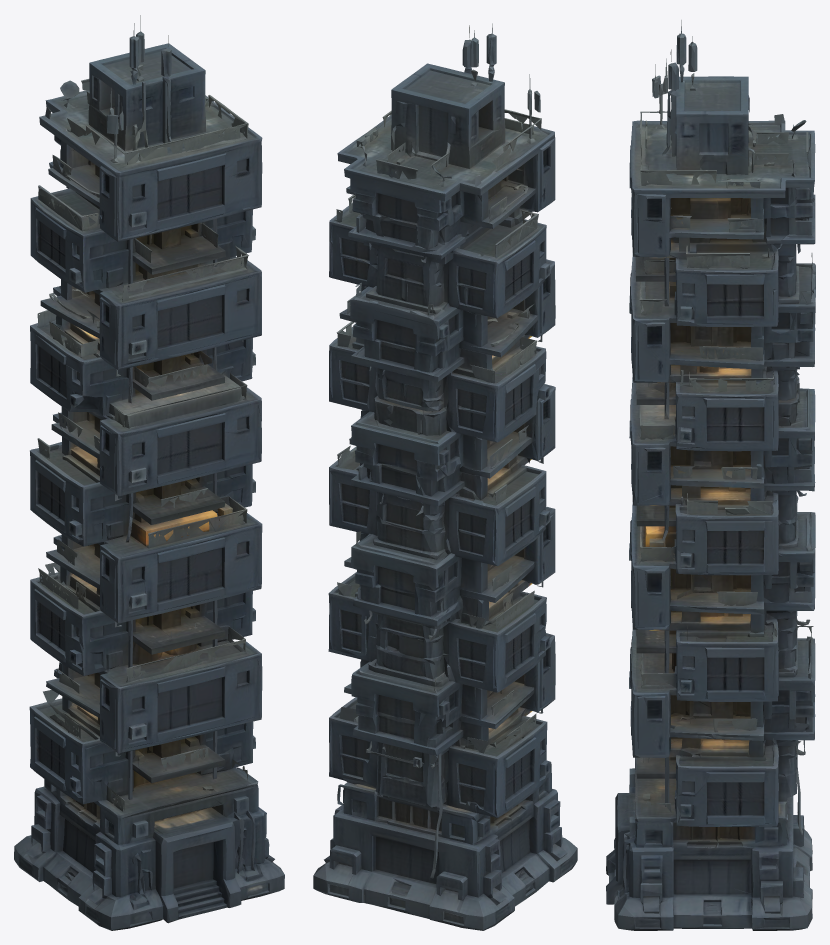
Rendered from scene-detail.glb.
3 views of the same model, side by side, from view 1: azimuth 30°, elevation 25°; view 2: azimuth 150°, elevation 25°; view 3: azimuth 270°, elevation 25° (orthographic). The views are drawn at different scales.
Parts seen in each view (by area): view 1: model; view 2: model; view 3: model.
Boxes of the visible parts, x1,y1,x2,y2 form: model: (14,15,284,930); model: (313,23,577,930); model: (606,20,815,930).
Bounding box in the file's own units: 0.4121 × 1.89 × 0.4188.
1 material, 1 textured.
